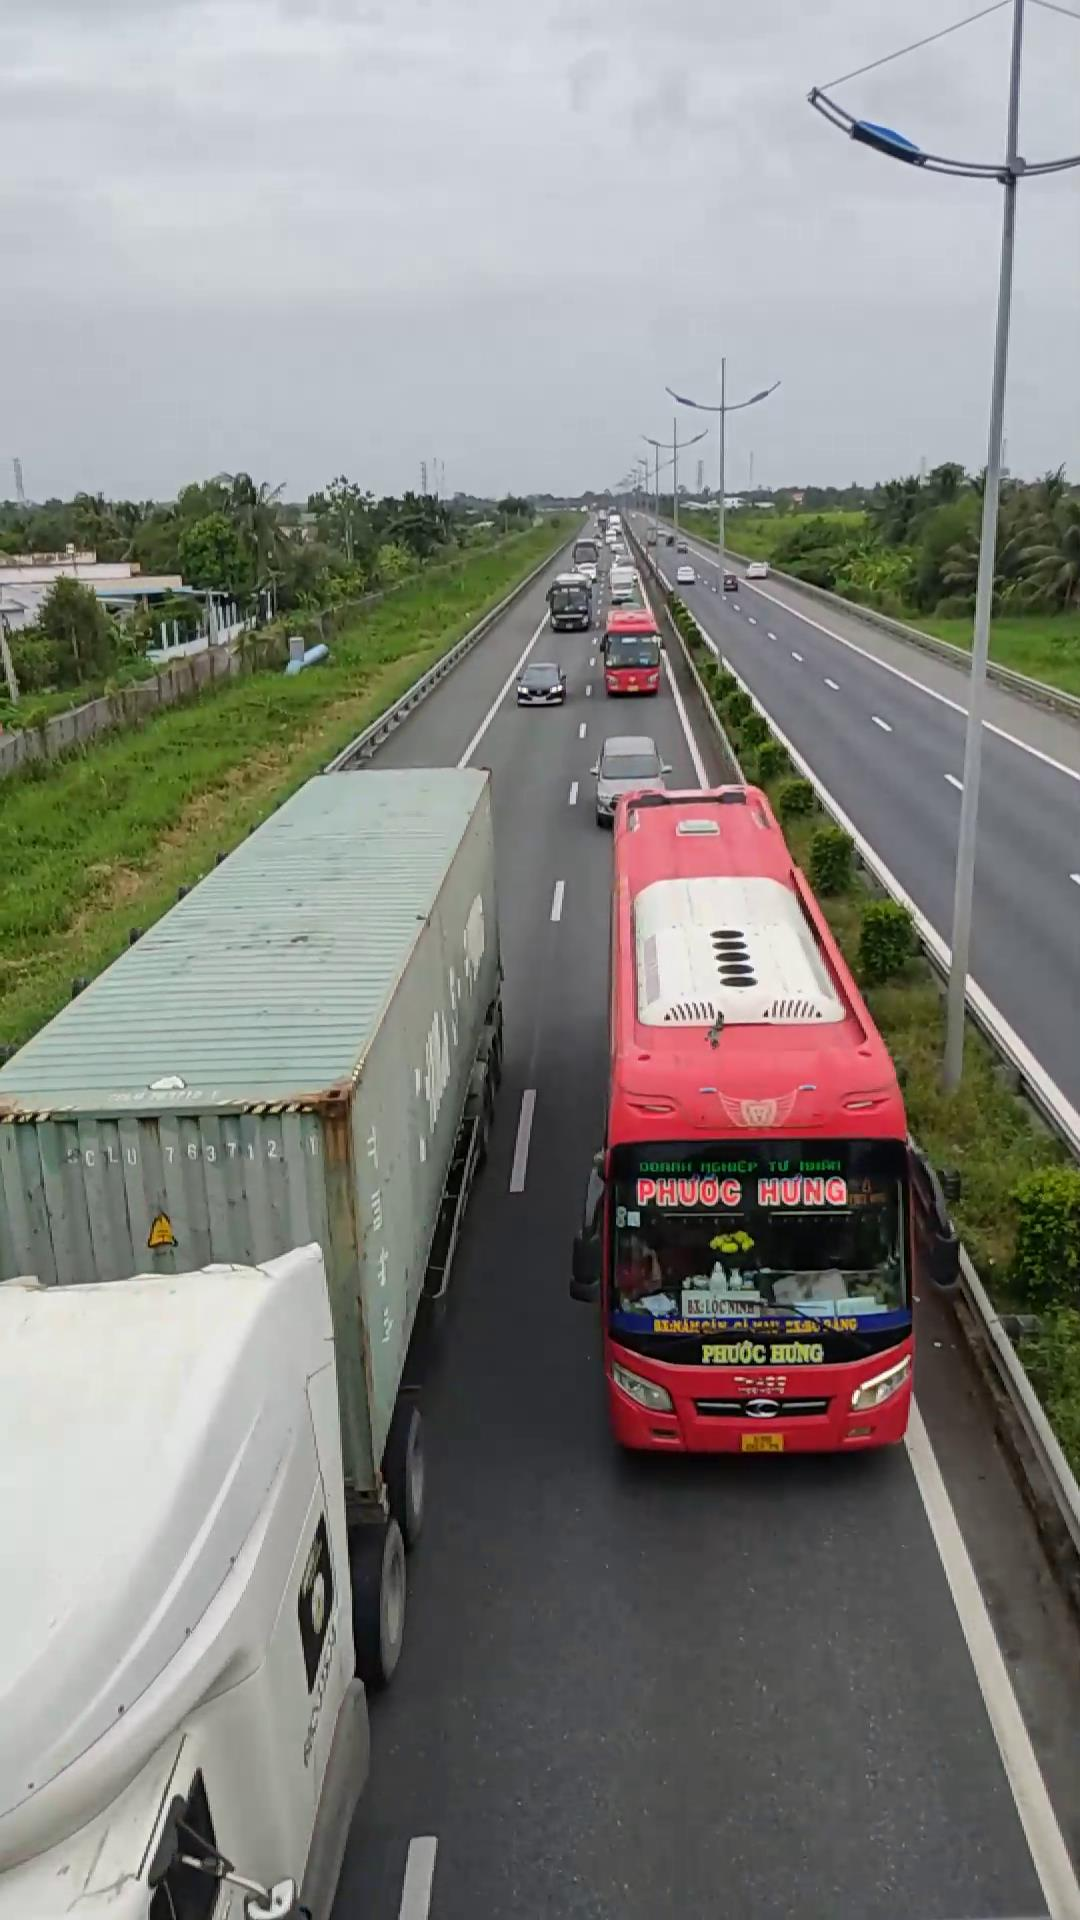bus: (587, 775, 922, 1455)
container: (0, 757, 504, 1905)
